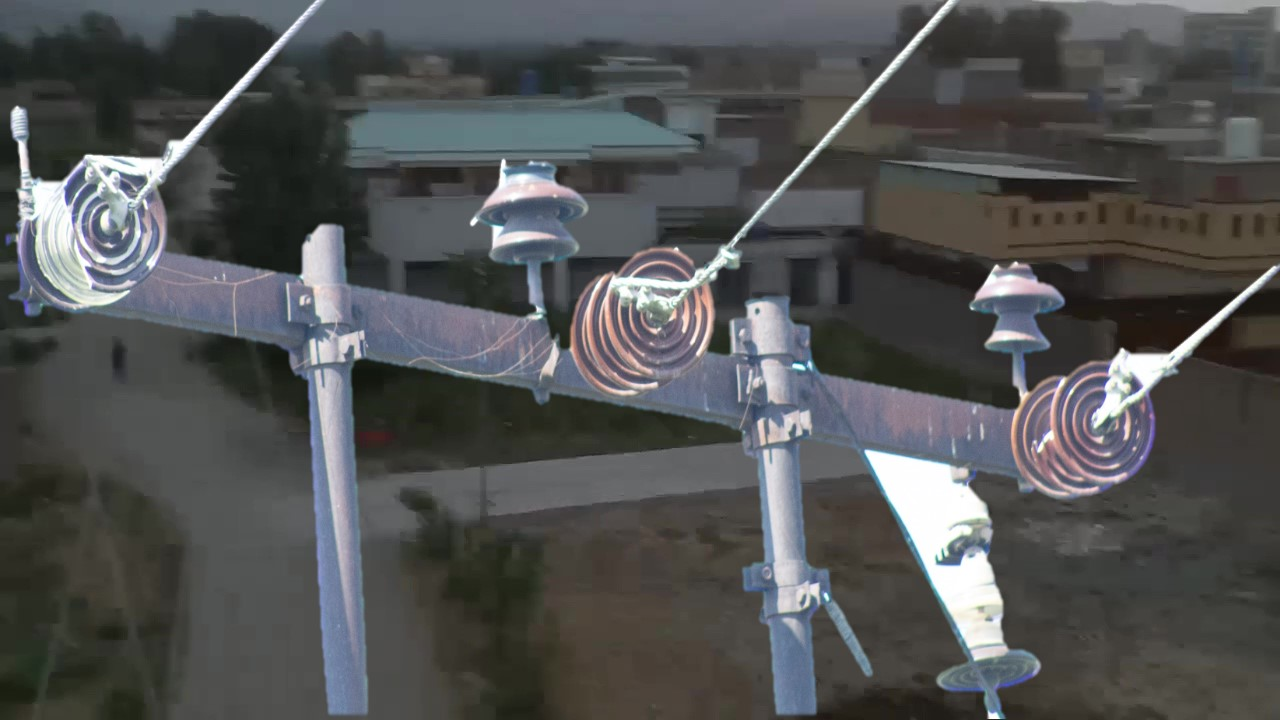defect_disc: (39, 144, 174, 310)
insulator_disc: (604, 239, 719, 383), (1048, 346, 1162, 480)
